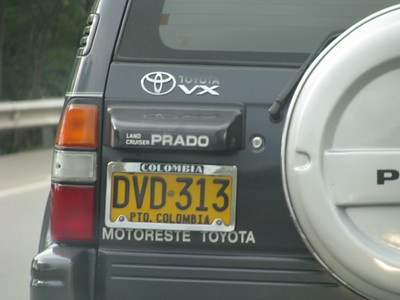placa_carro: (96, 155, 247, 240)
